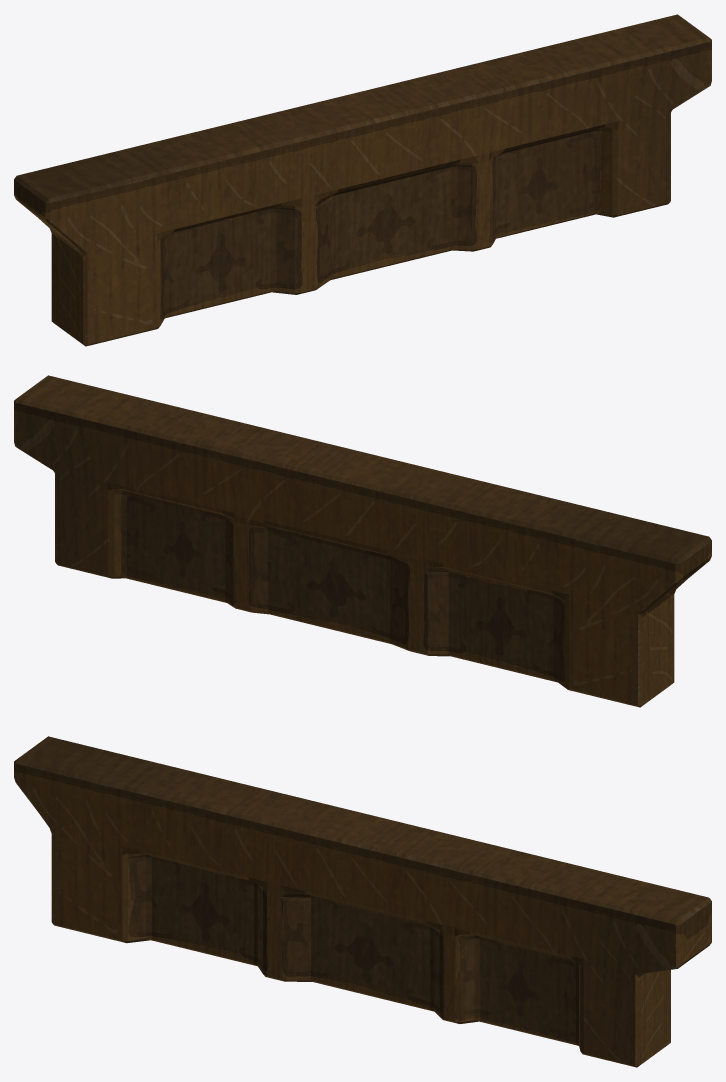
Rendered from table_drink.fbx.
3 renders of one model, top to bottom at view 1: azimuth 30°, elevation 25°; view 2: azimuth 150°, elevation 25°; view 3: azimuth 330°, elevation 25°, orthographic.
Visible parts, largest first — view 1: Cube; view 2: Cube; view 3: Cube.
Part boxes in pixels (bbox=[...]): Cube: bbox=[14, 14, 711, 346]; Cube: bbox=[14, 375, 711, 707]; Cube: bbox=[14, 736, 711, 1067].
Size of the model in its own units: 2219 by 500 by 200.
